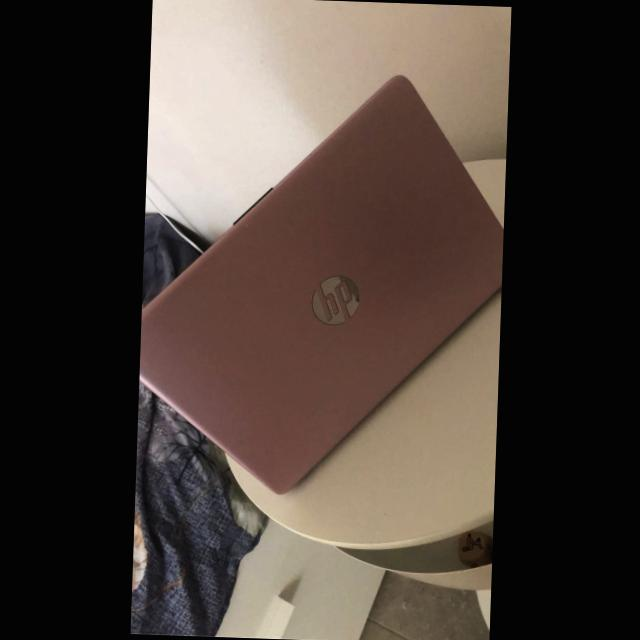laptop: (134, 69, 502, 505)
